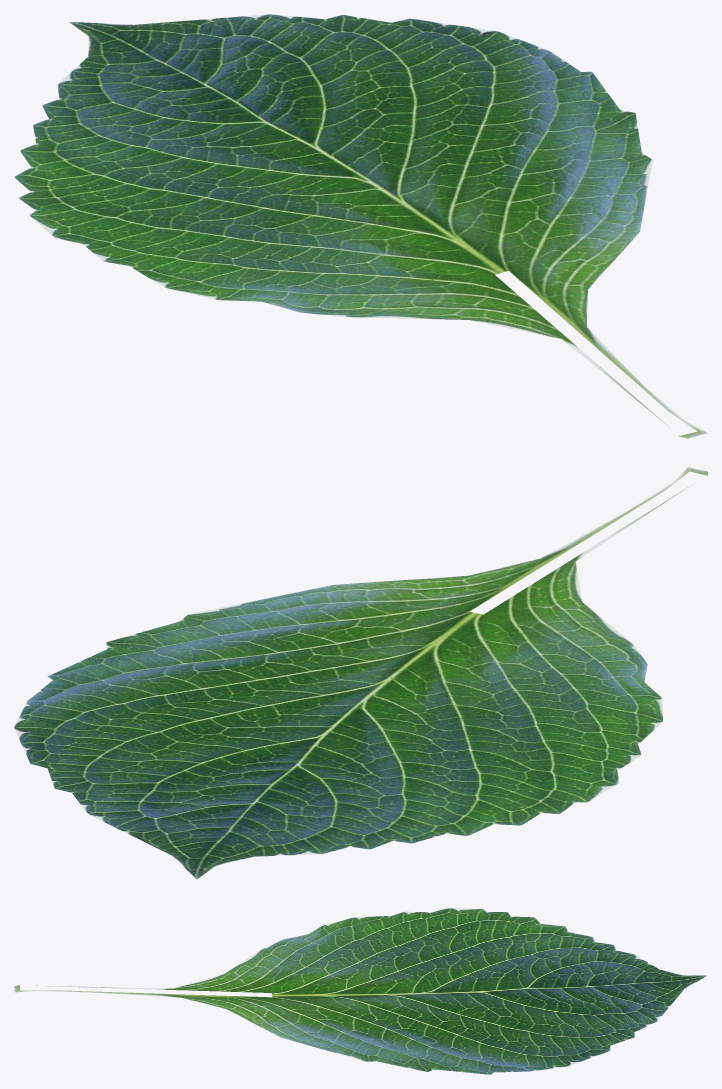
The model's file is curved.glb.
The picture shows the model from 3 angles, top to bottom: view 1: azimuth 30°, elevation 25°; view 2: azimuth 150°, elevation 25°; view 3: azimuth 270°, elevation 25°; orthographic projection. The views are drawn at different scales.
Parts seen in each view (by area): view 1: LeafObject; view 2: LeafObject; view 3: LeafObject.
Part boxes in pixels (x1,y1,x2,y2): LeafObject: (14,14,707,438); LeafObject: (14,467,707,879); LeafObject: (14,908,707,1074).
Size of the model in its own units: 473 by 0 by 832.
1 material, 1 textured.
